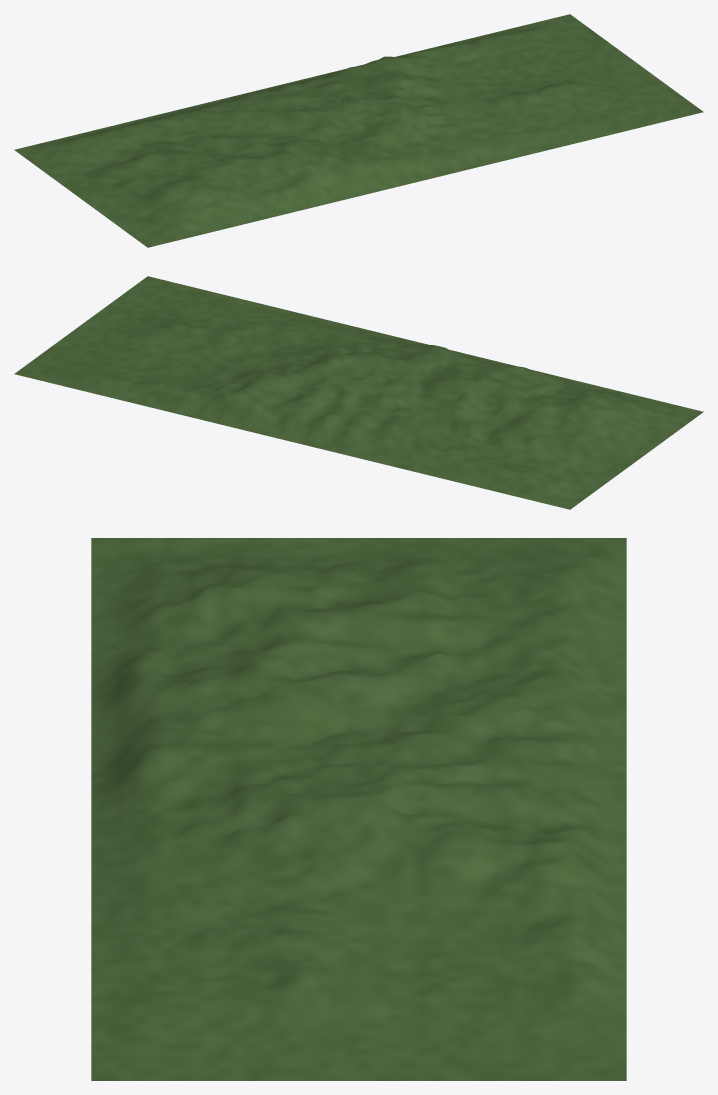
The model's file is collserola.glb.
3 renders of one model, top to bottom at view 1: azimuth 30°, elevation 25°; view 2: azimuth 150°, elevation 25°; view 3: azimuth 270°, elevation 25°, orthographic. The views are drawn at different scales.
Visible parts, largest first — view 1: terrain; view 2: terrain; view 3: terrain.
Boxes of the visible parts, x1,y1,x2,y2 form: terrain: [14, 14, 703, 247]; terrain: [14, 276, 703, 509]; terrain: [91, 538, 626, 1080].
Bounding box in the file's own units: 13355 × 499 × 5566.
1 material, 1 textured.
